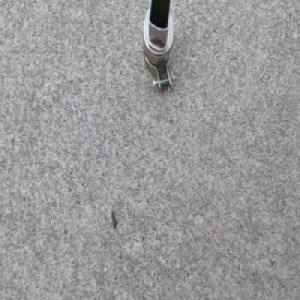MetalPart: (139, 0, 177, 97)
